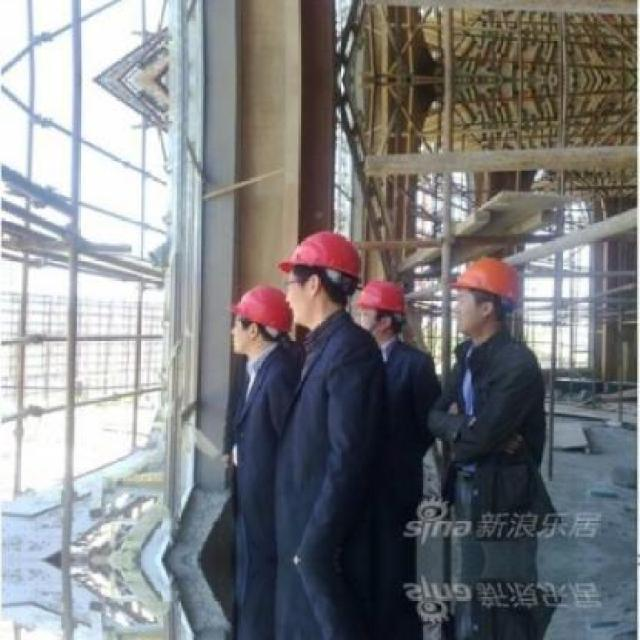helmet: (276, 226, 364, 289), (442, 246, 524, 311), (223, 288, 295, 340), (346, 274, 409, 324)
